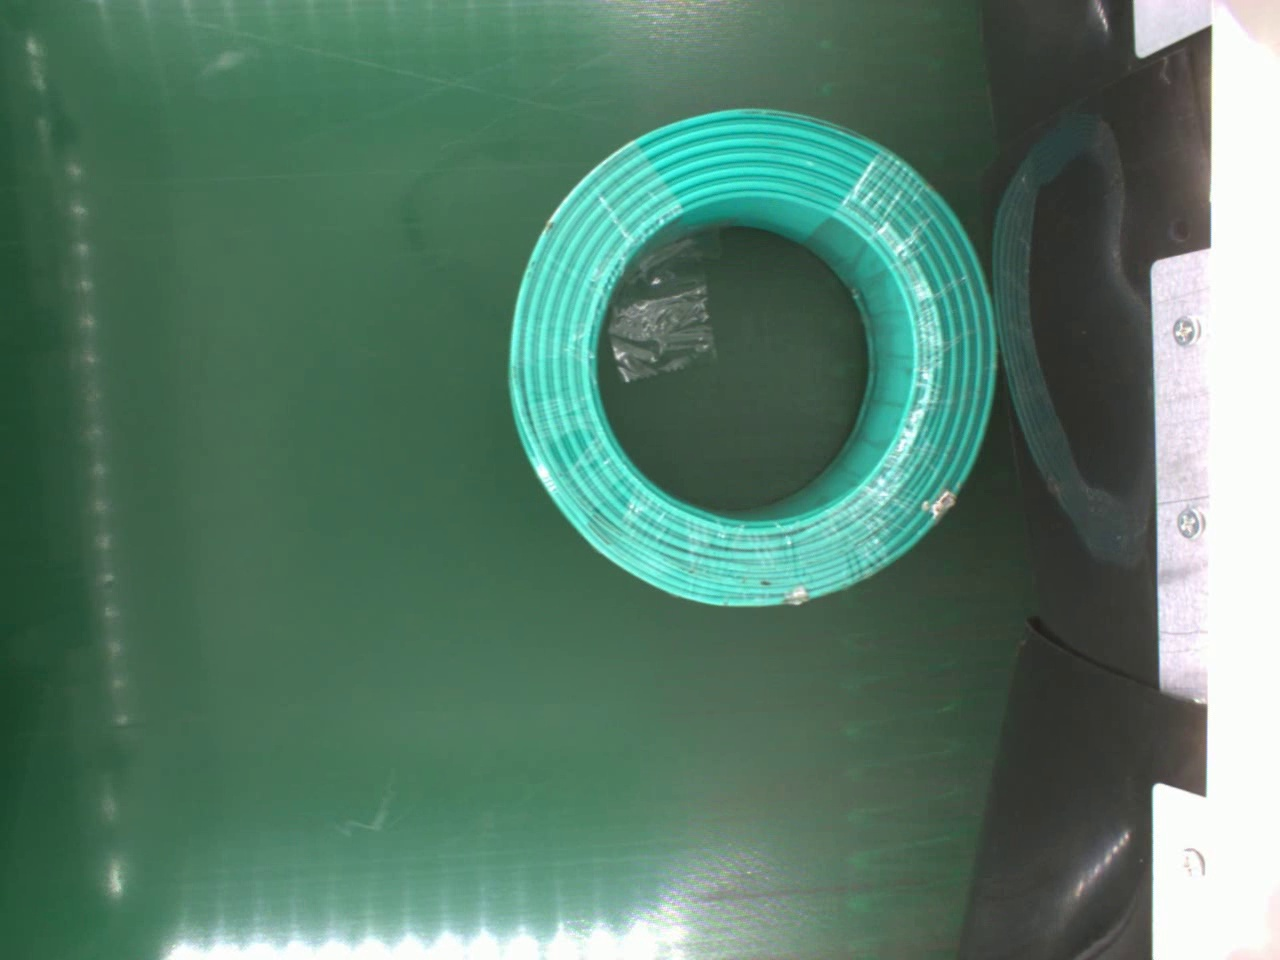green: (503, 101, 1000, 612)
